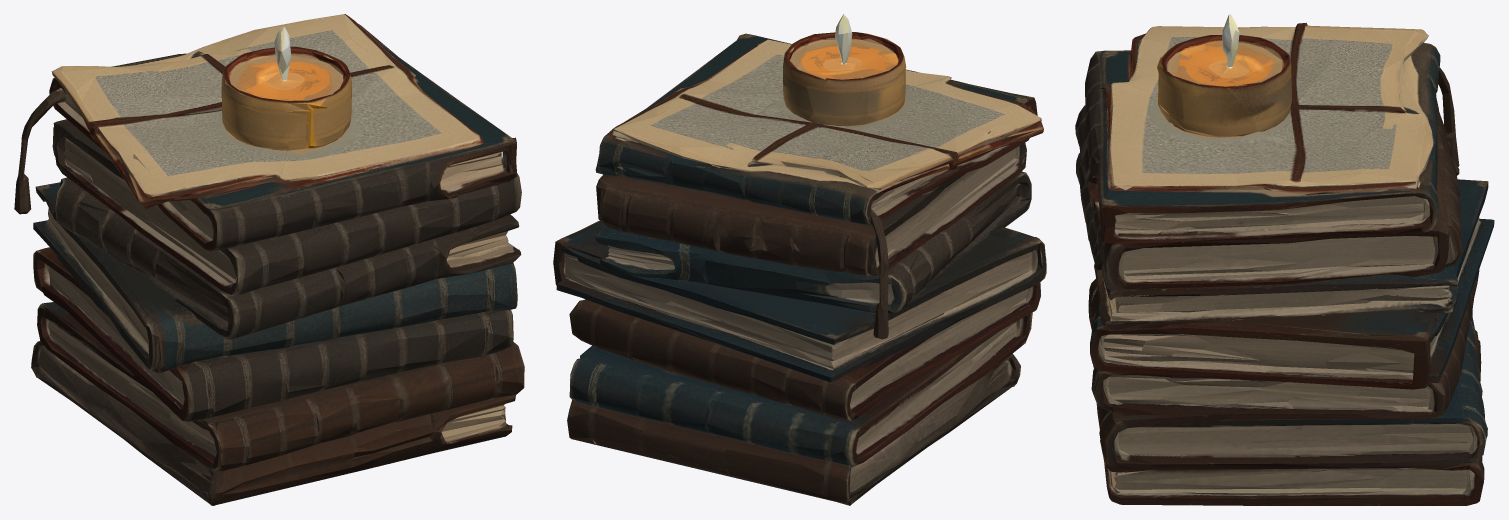
Rendered from book_stack.glb.
3 renders of one model, left to right at view 1: azimuth 30°, elevation 25°; view 2: azimuth 150°, elevation 25°; view 3: azimuth 270°, elevation 25°, orthographic. The views are drawn at different scales.
Visible parts, largest first — view 1: output_unwrapped; view 2: output_unwrapped; view 3: output_unwrapped.
Boxes of the visible parts, x1,y1,x2,y2 form: output_unwrapped: (14, 14, 524, 505); output_unwrapped: (553, 14, 1046, 505); output_unwrapped: (1075, 14, 1494, 505).
Bounding box in the file's own units: 0.4 × 0.3997 × 0.3698.
1 material, 1 textured.
